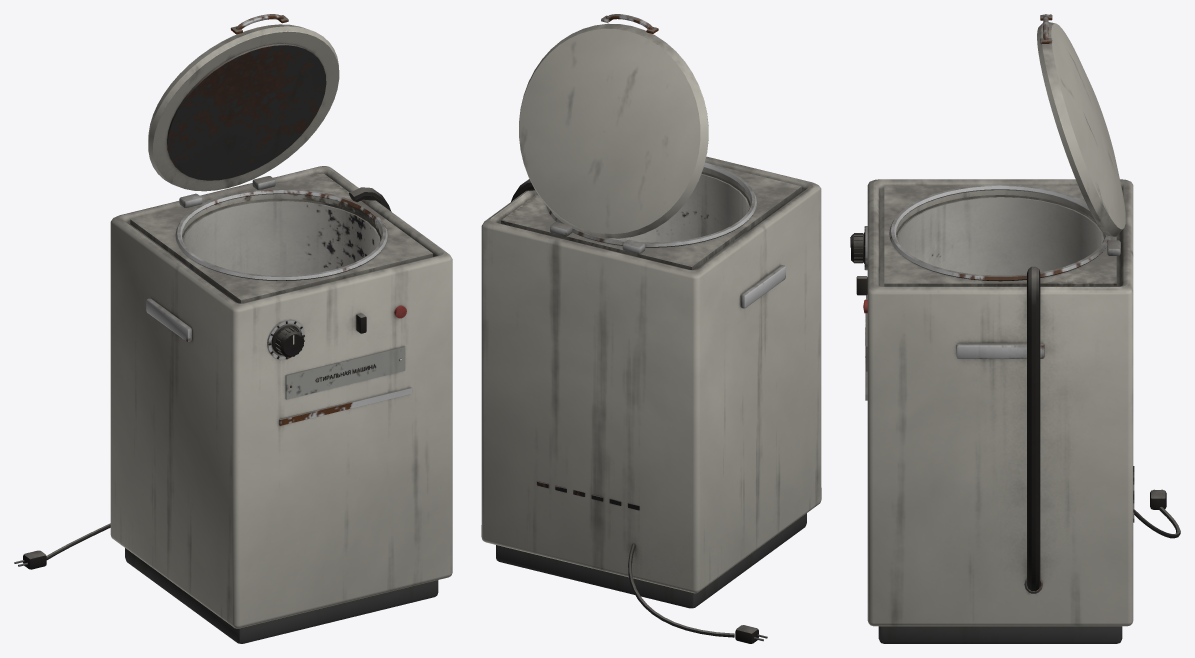
Rendered from SM_WashingMachine_Soviet.fbx.
3 views of the same model, side by side, from view 1: azimuth 30°, elevation 25°; view 2: azimuth 150°, elevation 25°; view 3: azimuth 270°, elevation 25° (orthographic). The views are drawn at different scales.
Visible parts, largest first — view 1: SM_WashingMachine_Soviet; view 2: SM_WashingMachine_Soviet; view 3: SM_WashingMachine_Soviet.
Part boxes in pixels (<box>): SM_WashingMachine_Soviet: <box>14,14,452,643</box>; SM_WashingMachine_Soviet: <box>481,14,821,643</box>; SM_WashingMachine_Soviet: <box>850,14,1180,643</box>.
Bounding box in the file's own units: 0.7253 × 1.15 × 0.5963.
1 material, 1 textured.
